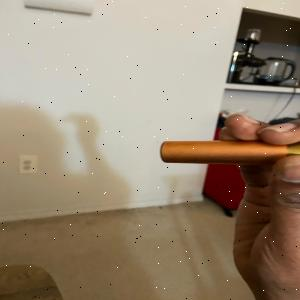Golden-E-Ciggirate: (158, 129, 300, 167)
